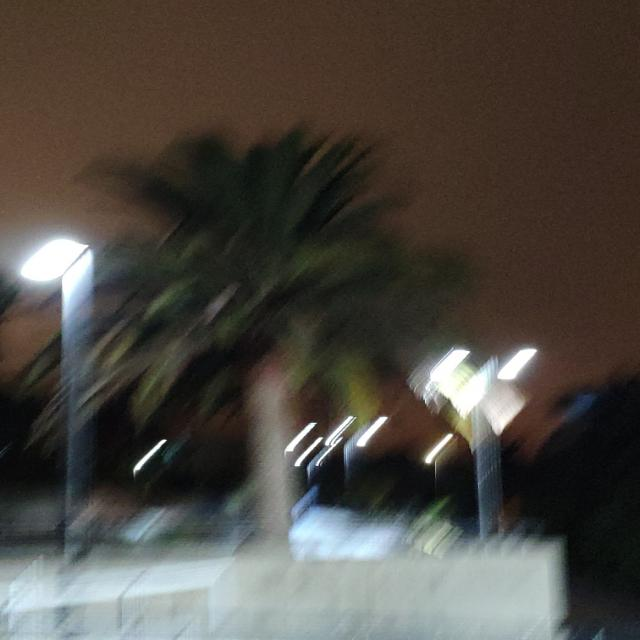Palm-Trees: (96, 115, 452, 558)
